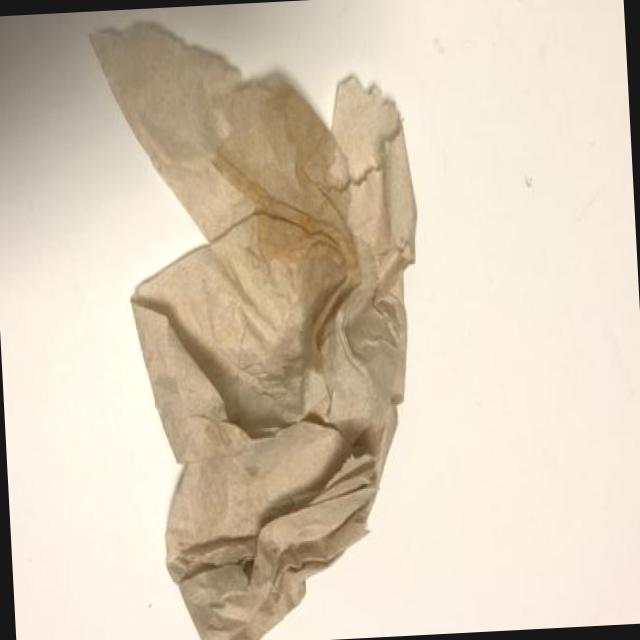giay: (89, 19, 417, 640)
